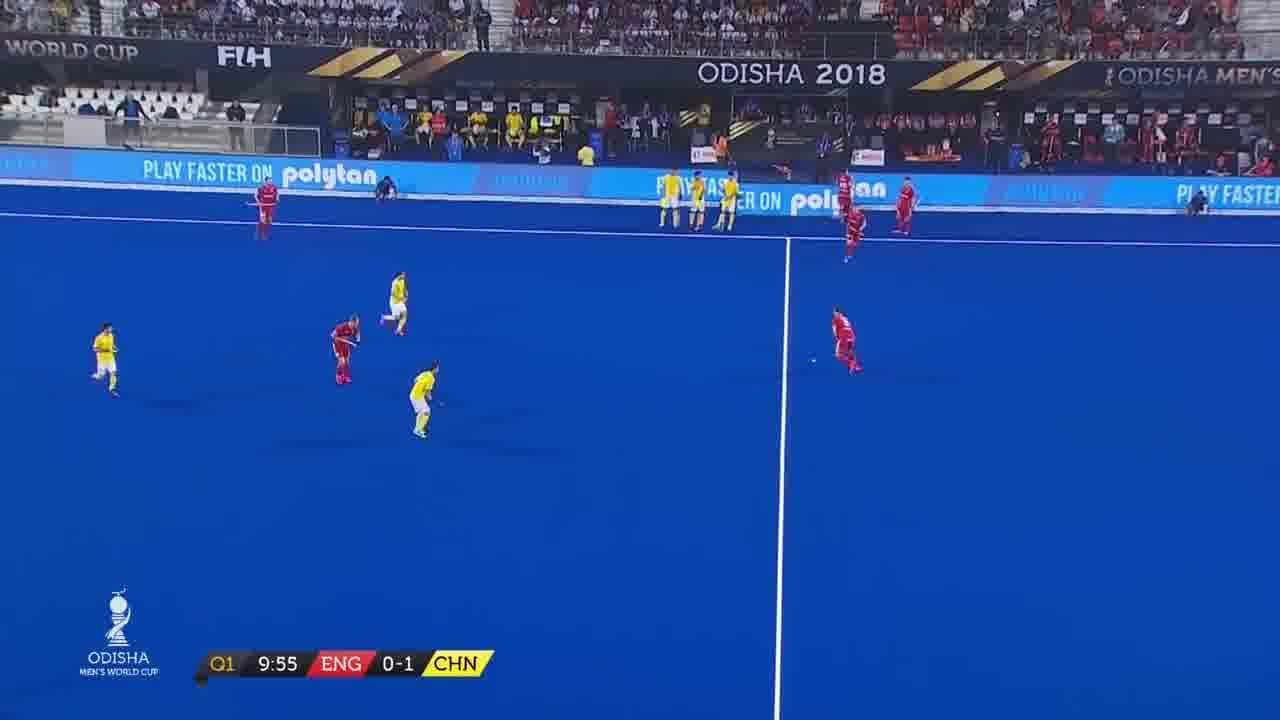ball: (809, 356, 820, 367)
